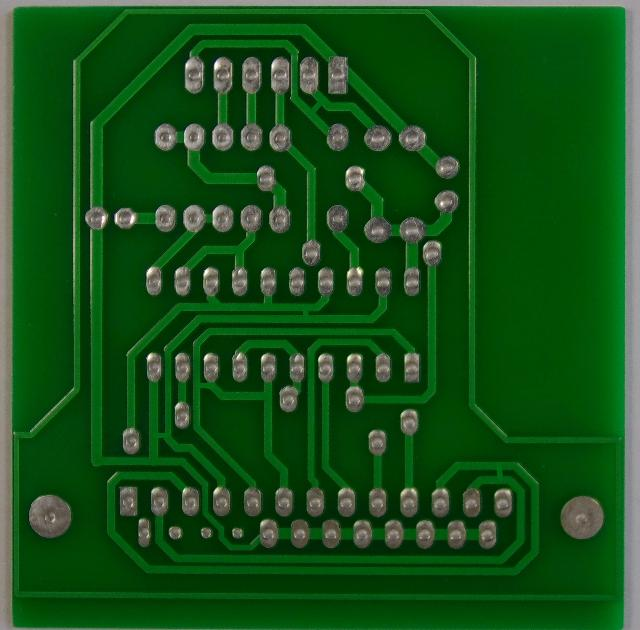short: (302, 92, 330, 120), (192, 372, 220, 398), (487, 458, 511, 486), (143, 425, 173, 447), (291, 302, 317, 323)
